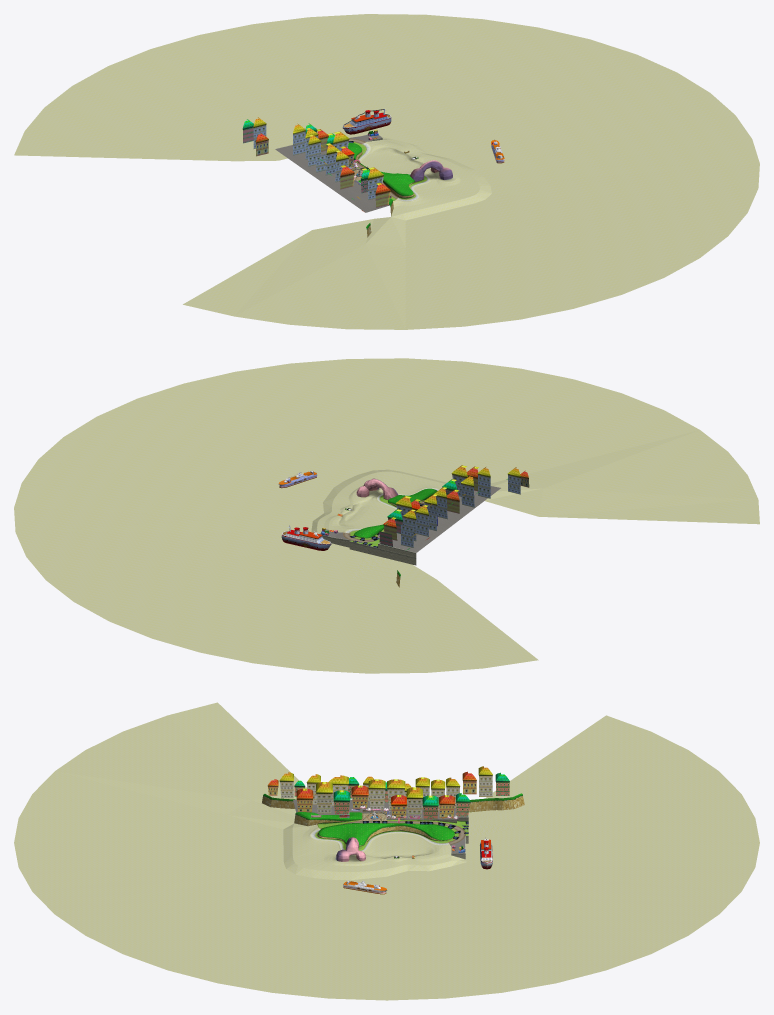
Rendered from course.glb.
3 renders of one model, top to bottom at view 1: azimuth 30°, elevation 25°; view 2: azimuth 150°, elevation 25°; view 3: azimuth 270°, elevation 25°, orthographic.
Parts seen in each view (by area): view 1: polygon308, polygon115, polygon165, polygon23, polygon207, polygon221, polygon46; view 2: polygon308, polygon115, polygon23, polygon165, polygon46, polygon221; view 3: polygon308, polygon115, polygon207, polygon221, polygon23, polygon165, polygon46, polygon219.
Boxes of the visible parts, x1,y1,x2,y2 form: polygon308: [14, 14, 759, 329]; polygon115: [242, 117, 390, 211]; polygon165: [275, 135, 389, 212]; polygon23: [275, 110, 409, 198]; polygon207: [349, 138, 430, 237]; polygon221: [348, 142, 414, 204]; polygon46: [343, 109, 504, 181]; polygon308: [14, 358, 759, 673]; polygon115: [379, 465, 529, 550]; polygon23: [281, 499, 424, 565]; polygon165: [320, 486, 500, 552]; polygon46: [278, 470, 424, 543]; polygon221: [354, 488, 436, 537]; polygon308: [14, 702, 759, 1000]; polygon115: [267, 766, 509, 819]; polygon207: [262, 793, 524, 851]; polygon221: [296, 812, 454, 844]; polygon23: [320, 806, 492, 869]; polygon165: [293, 799, 468, 853]; polygon46: [311, 813, 492, 894]; polygon219: [316, 820, 468, 850].
Size of the model in its own units: 2353 by 147 by 2488.
14 materials, 14 textured.
